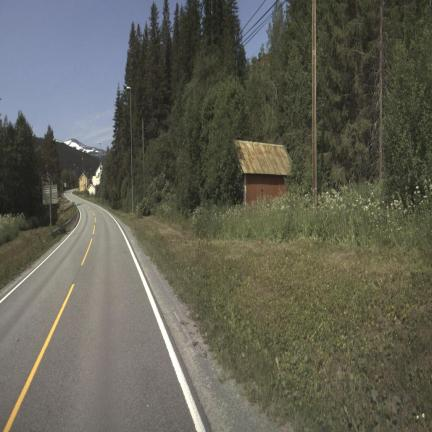Road: (0, 194, 208, 430)
